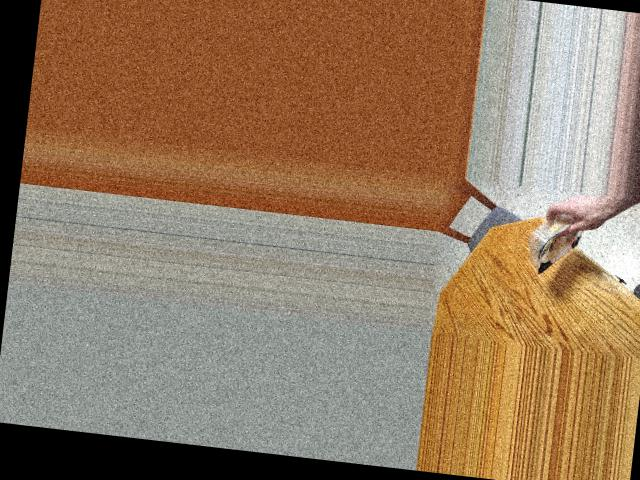cheese: (513, 206, 605, 276)
